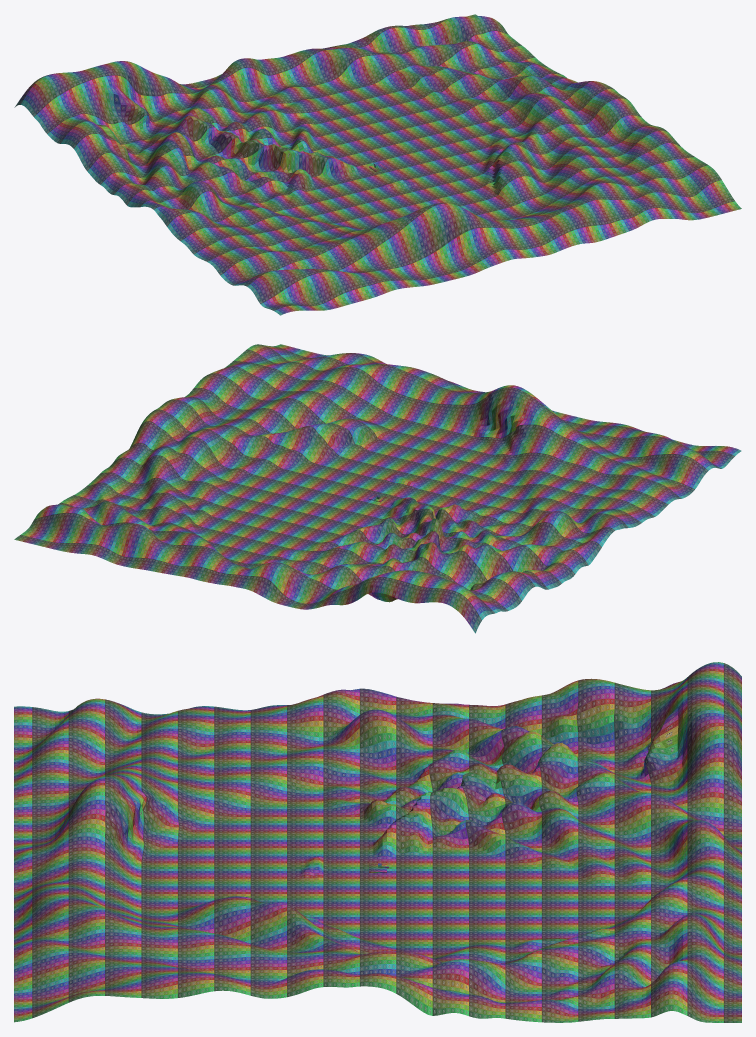
The model's file is map.glb.
3 renders of one model, top to bottom at view 1: azimuth 30°, elevation 25°; view 2: azimuth 150°, elevation 25°; view 3: azimuth 270°, elevation 25°, orthographic. The views are drawn at different scales.
Parts seen in each view (by area): view 1: plane; view 2: plane; view 3: plane.
Part boxes in pixels (left/top/right/bottom): plane: left=14, top=14, right=741, bottom=315; plane: left=14, top=344, right=741, bottom=633; plane: left=14, top=662, right=741, bottom=1022.
Bounding box in the file's own units: 800 × 84.54 × 800.
Materials: 1 (1 with a texture image).
